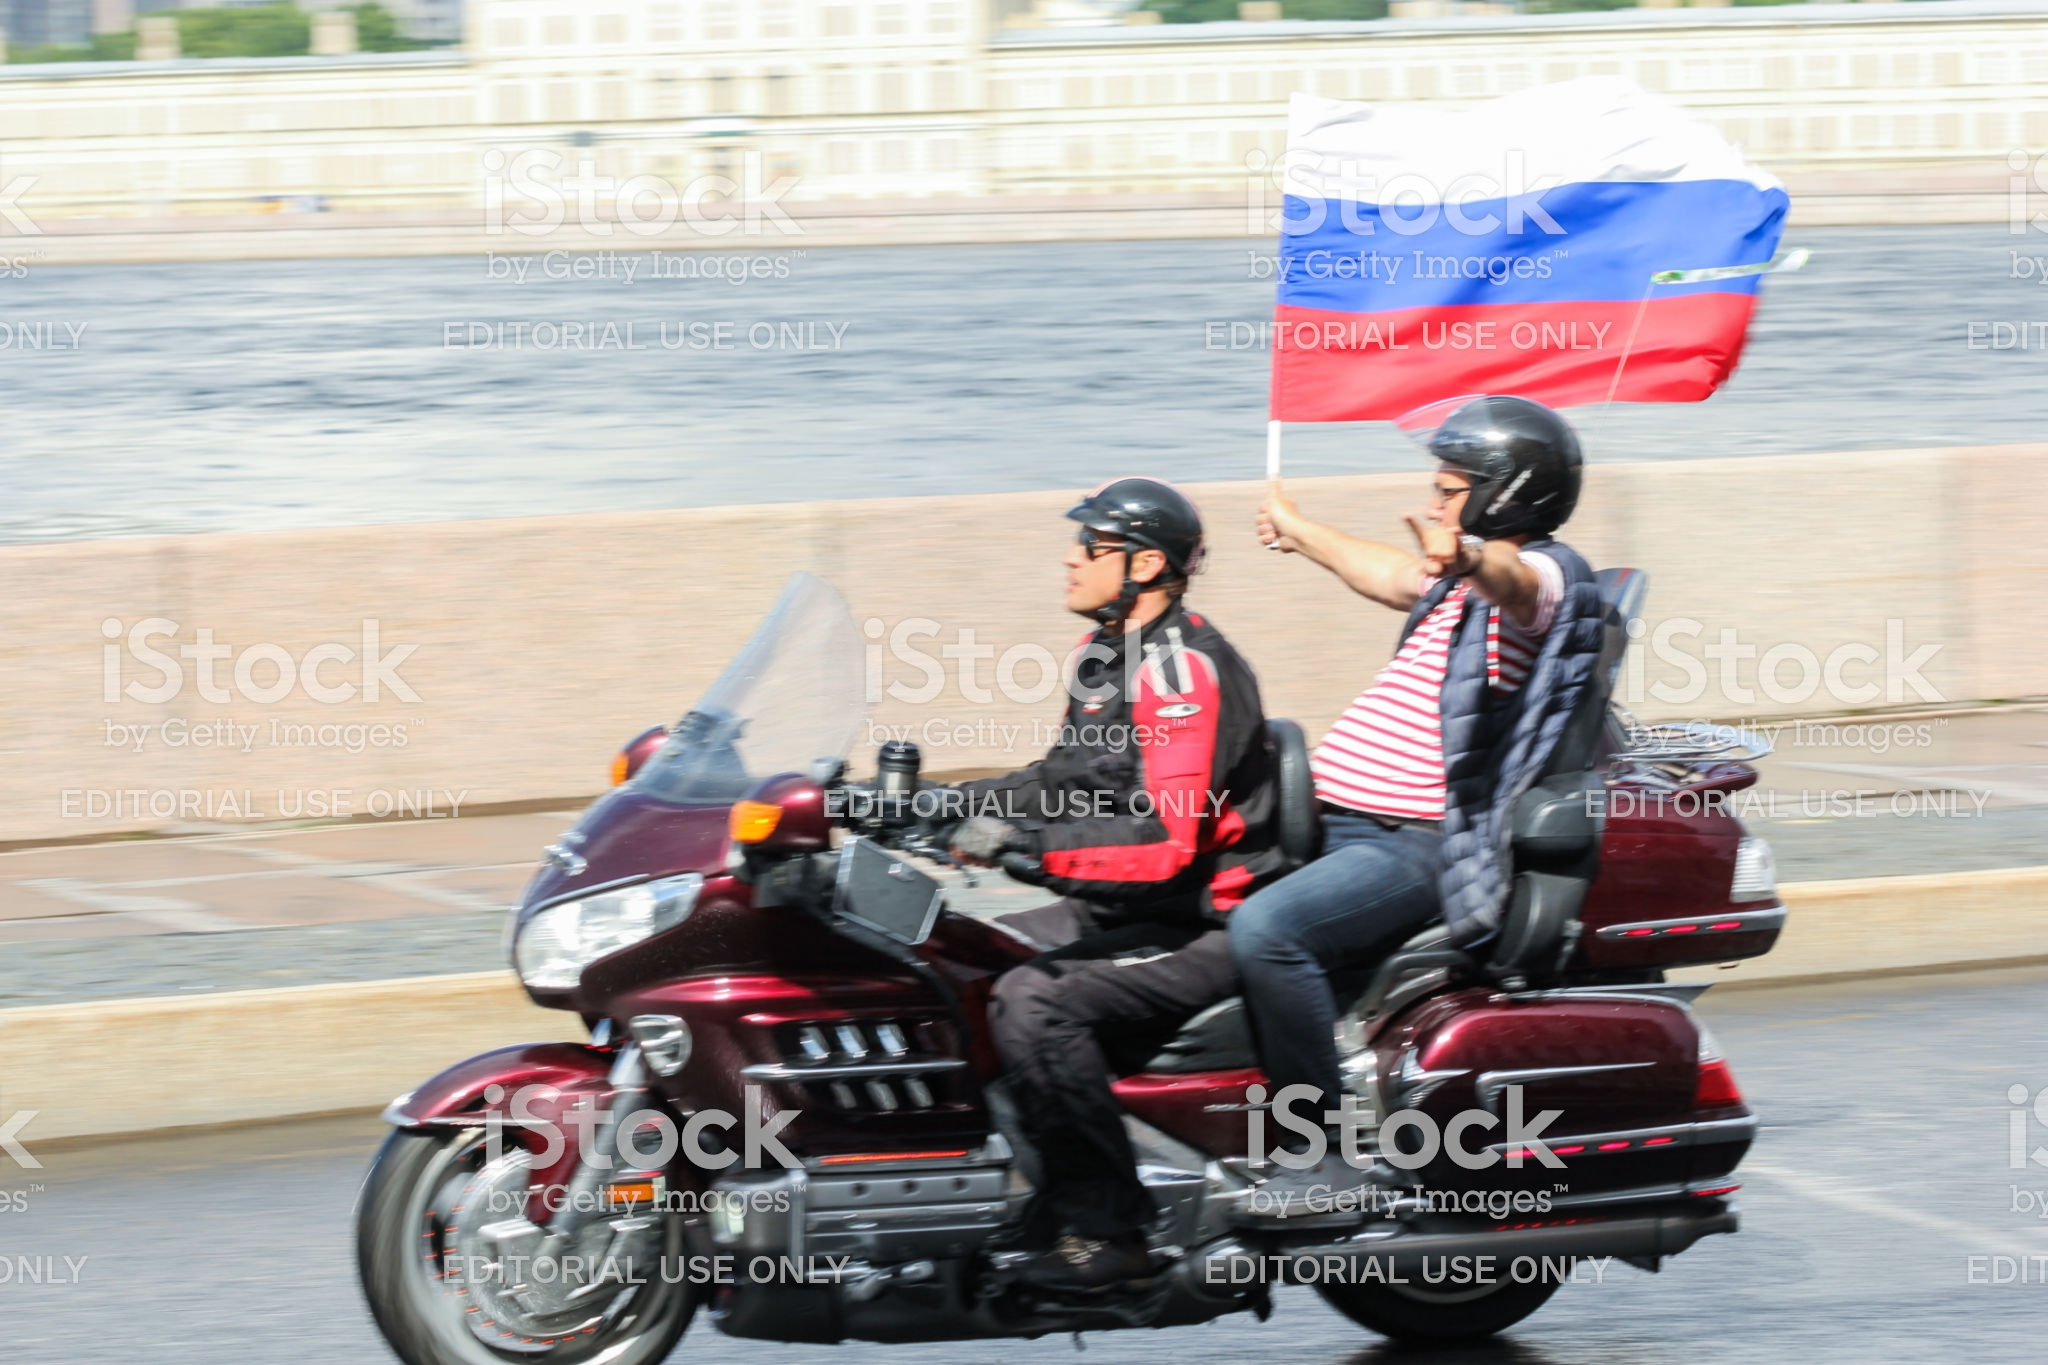helmet: (1418, 395, 1600, 551), (1064, 468, 1195, 555)
